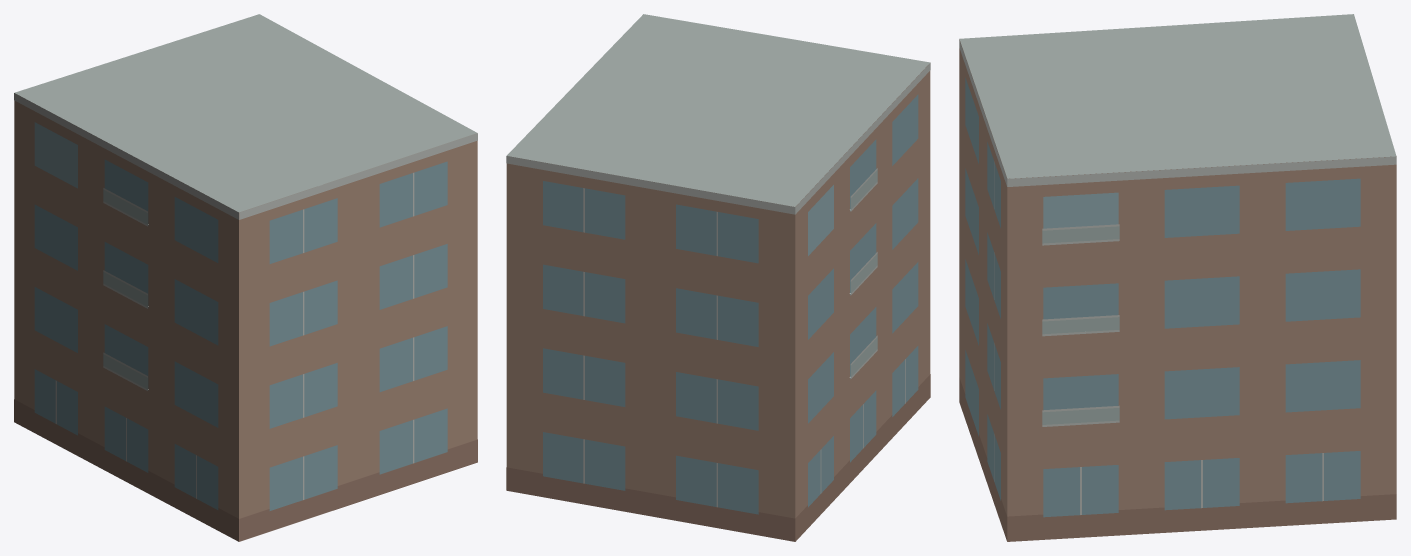
Rendered from survey-upis-32574944.glb.
The picture shows the model from 3 angles, left to right: view 1: azimuth 30°, elevation 25°; view 2: azimuth 150°, elevation 25°; view 3: azimuth 270°, elevation 25°; orthographic projection. The views are drawn at different scales.
Parts seen in each view (by area): view 1: survey-upis-32574944.tmp; view 2: survey-upis-32574944.tmp; view 3: survey-upis-32574944.tmp.
Part boxes in pixels (x1,y1,x2,y2): survey-upis-32574944.tmp: [14, 14, 477, 541]; survey-upis-32574944.tmp: [506, 14, 930, 541]; survey-upis-32574944.tmp: [959, 14, 1396, 541].
Size of the model in its own units: 10.43 by 10.7 by 11.69.
